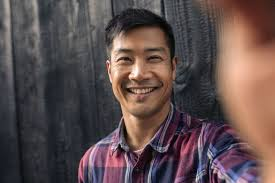Human_Male: (102, 7, 181, 183)
